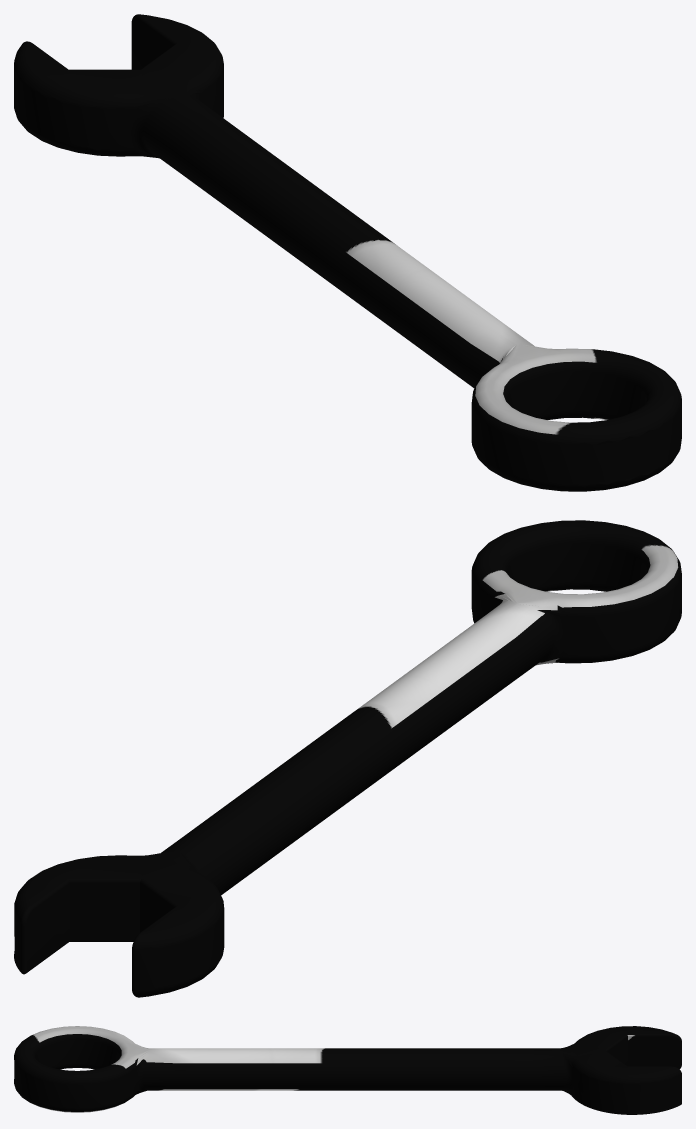
The model's file is wrench.fbx.
3 views of the same model, one above another, from view 1: azimuth 30°, elevation 25°; view 2: azimuth 150°, elevation 25°; view 3: azimuth 270°, elevation 25° (orthographic). The views are drawn at different scales.
Parts seen in each view (by area): view 1: wrench; view 2: wrench; view 3: wrench.
Boxes of the visible parts, left/top/right/bottom form: wrench: left=14, top=14, right=681, bottom=491; wrench: left=14, top=520, right=681, bottom=997; wrench: left=14, top=1026, right=681, bottom=1114.
Bounding box in the file's own units: 3000 × 1000 × 15717.
